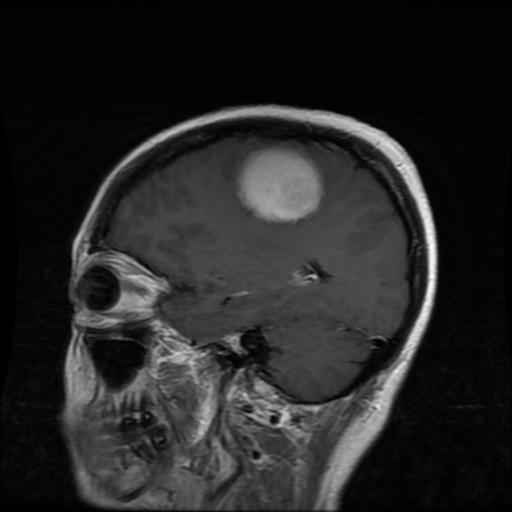Menigiomia_tumour: (235, 145, 321, 222)
